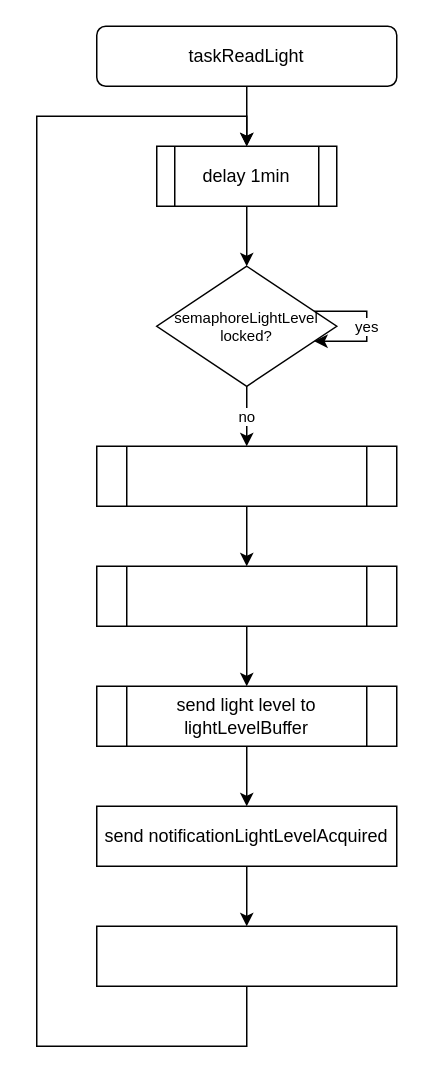
Some shapes in this 423 by 1085 pixel diagram are drawn without their labels. The shapes that lost their labels are listed below. From the top down, each one's centre as x and y in pixels, then its label:
At point (246, 475): "read LDR".
At point (246, 595): "convert luminosity to lumens".
At point (246, 955): "increment semaphoreLightLevel".
